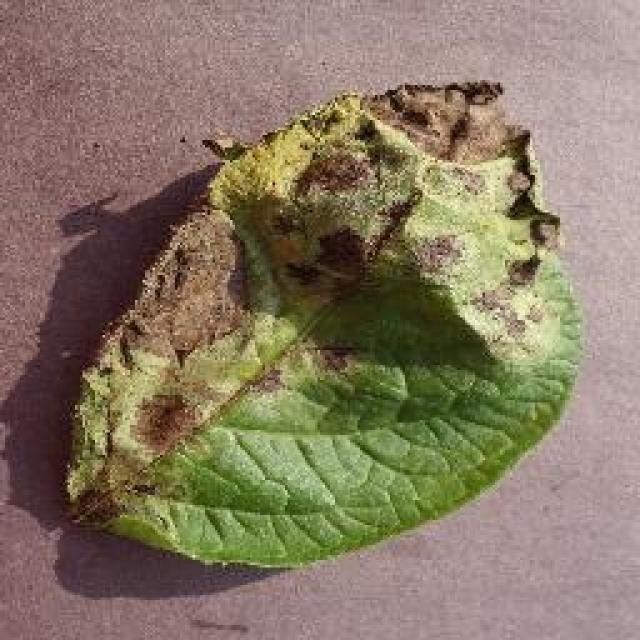Potato: (63, 78, 585, 570)
